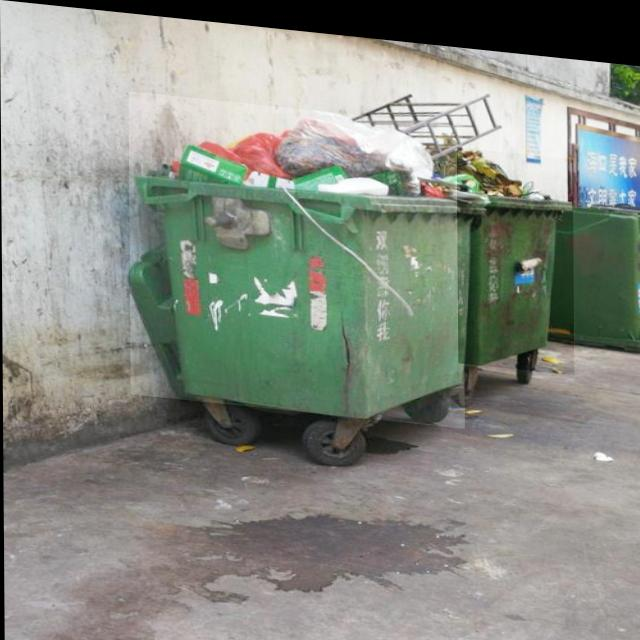overflow: (128, 88, 464, 419), (456, 137, 574, 363)
